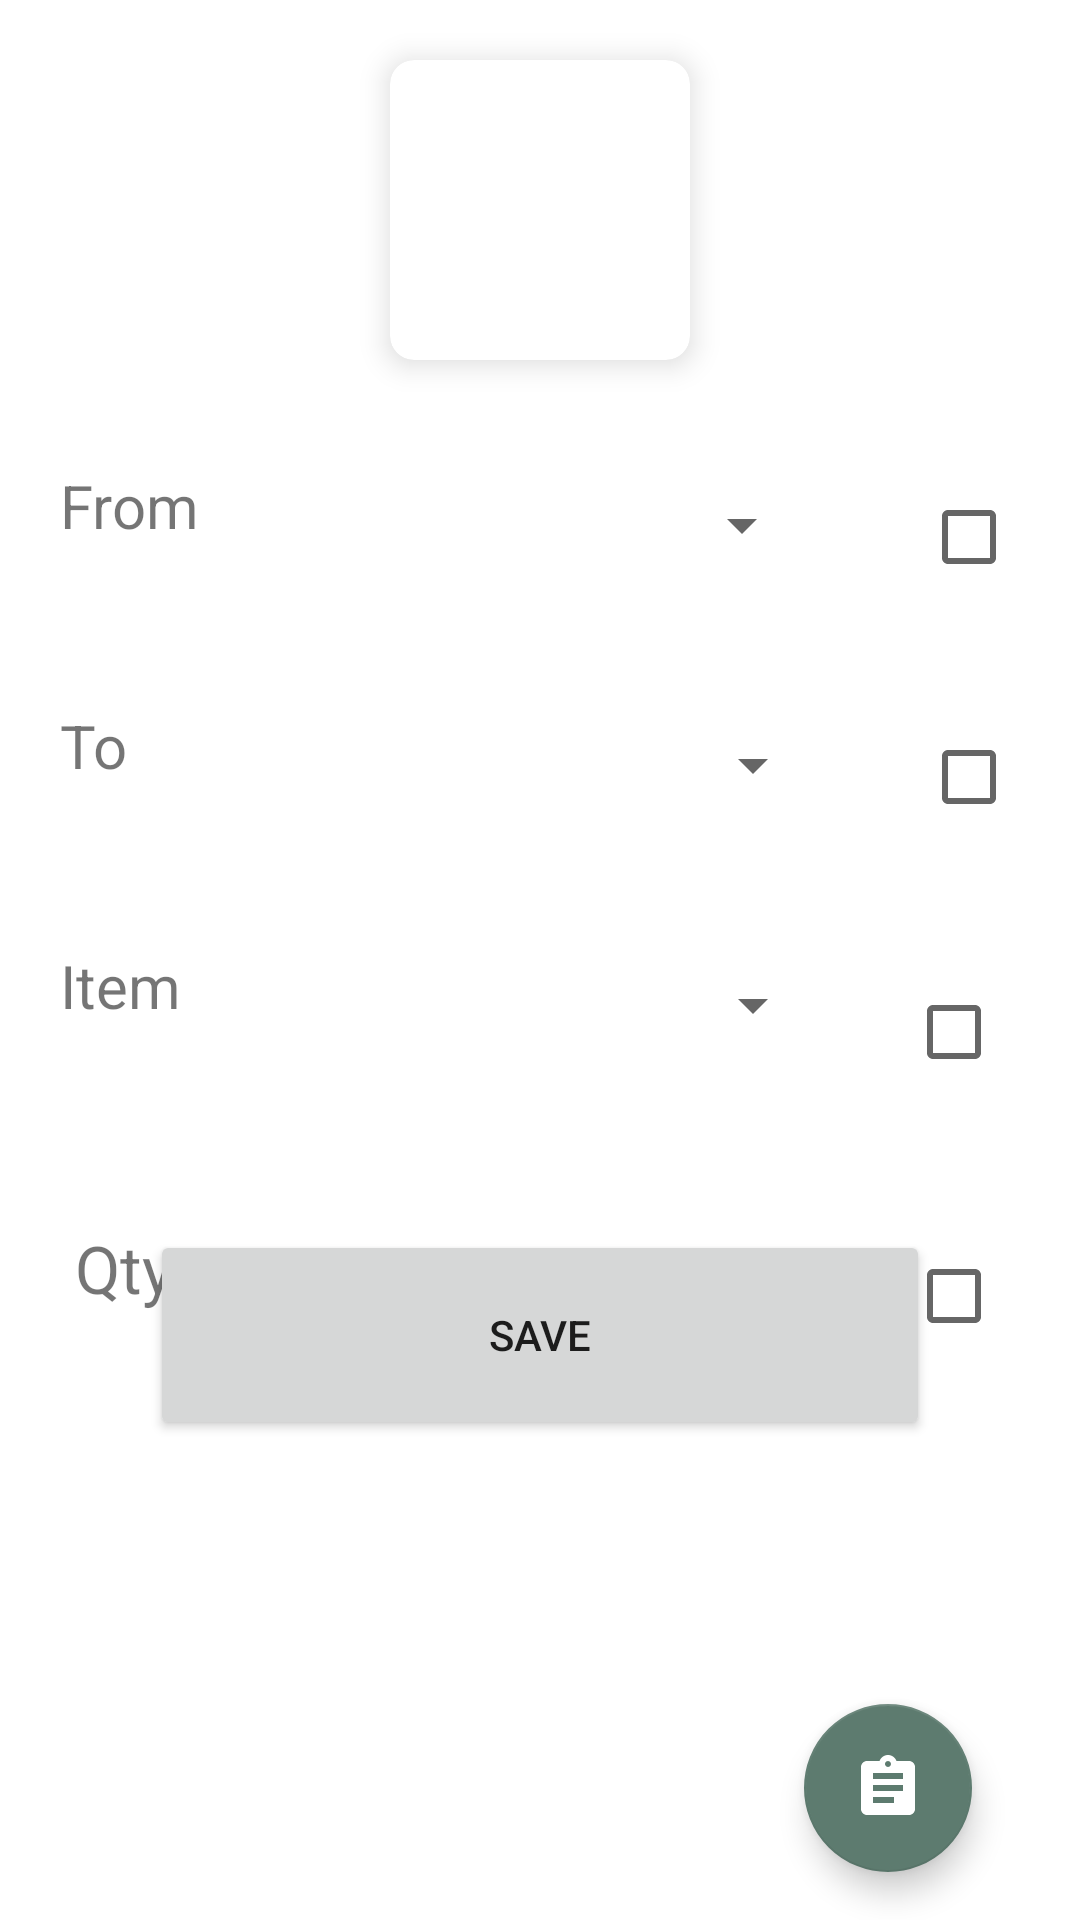

Icon bounding boxes for this 1080 x 1920 phone screenshot, format {"left": x1, "top": y1, "right": x2, "bottom": y2}:
invoice: {"left": 804, "top": 1704, "right": 972, "bottom": 1872}
